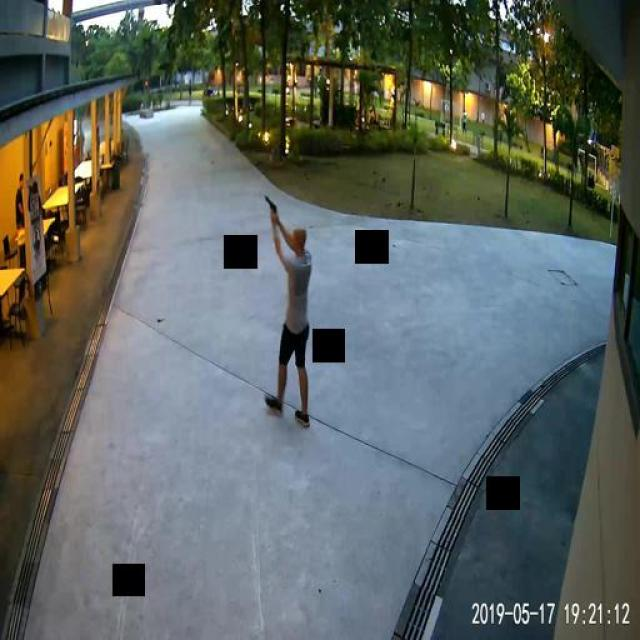gun: (264, 194, 276, 218)
